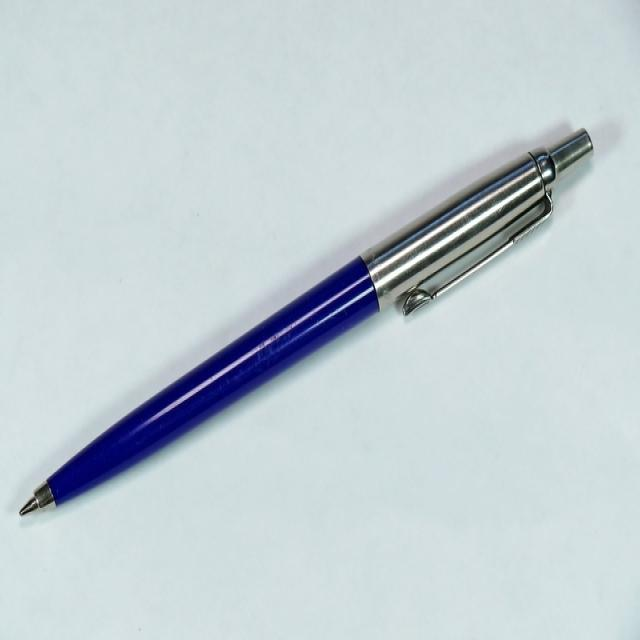mouse: (5, 103, 612, 533)
